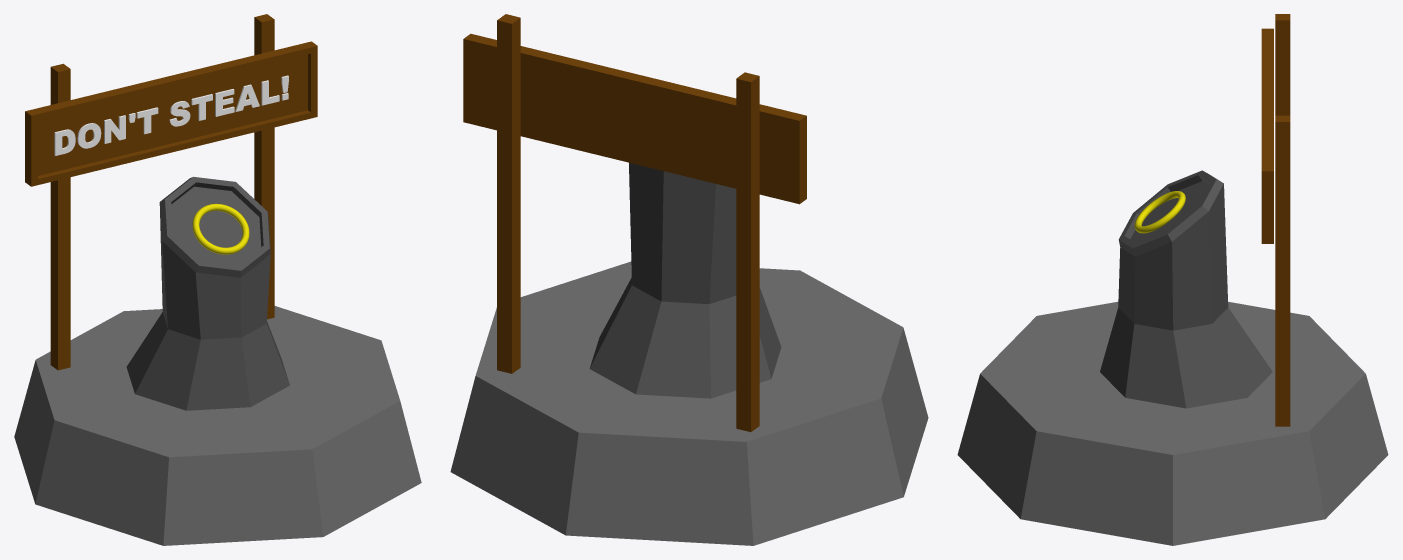
The model's file is Bracelet platform.glb.
3 views of the same model, side by side, from view 1: azimuth 30°, elevation 25°; view 2: azimuth 150°, elevation 25°; view 3: azimuth 270°, elevation 25° (orthographic). The views are drawn at different scales.
Visible parts, largest first — view 1: Cube.002, Torus; view 2: Cube.002; view 3: Cube.002, Torus.
Boxes of the visible parts, x1=… form: Cube.002: x1=14, y1=14, x2=421, y2=545; Torus: x1=192, y1=203, x2=249, y2=254; Cube.002: x1=450, y1=14, x2=928, y2=545; Cube.002: x1=957, y1=14, x2=1388, y2=545; Torus: x1=1134, y1=191, x2=1185, y2=233.
Size of the model in its own units: 1.45 by 1.43 by 1.45.
